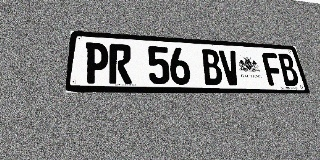5: (148, 46, 171, 84)
6: (168, 47, 191, 85)
B: (200, 49, 224, 85), (276, 53, 300, 86)
F: (261, 52, 285, 86)
P: (84, 42, 109, 84)
R: (109, 44, 132, 84)
V: (218, 50, 242, 85)
